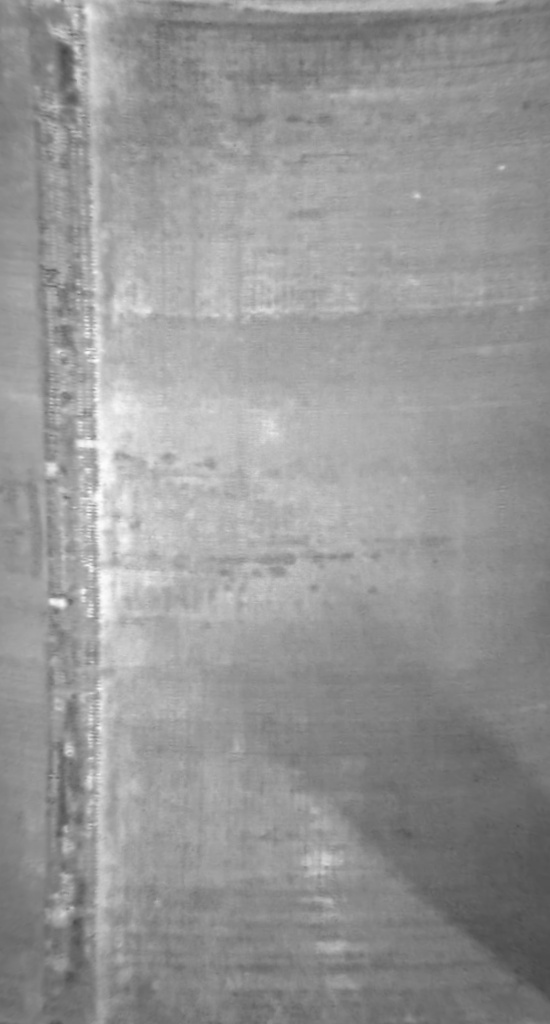splice: (18, 1, 115, 1022)
